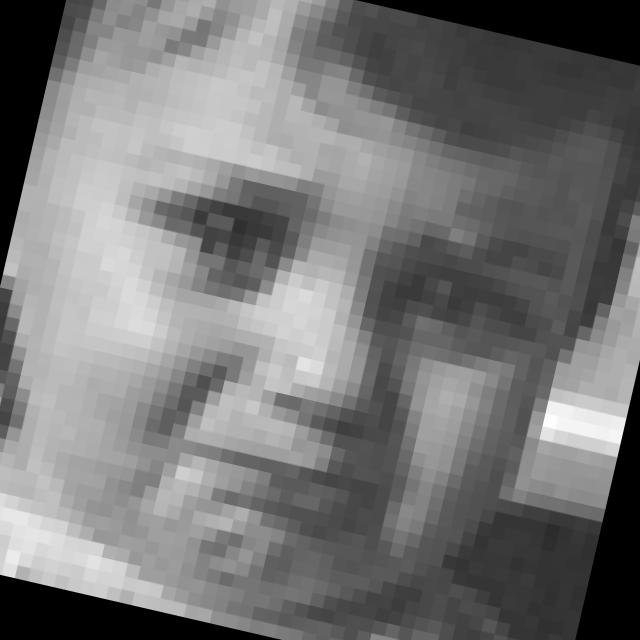sad: (41, 97, 578, 580)
